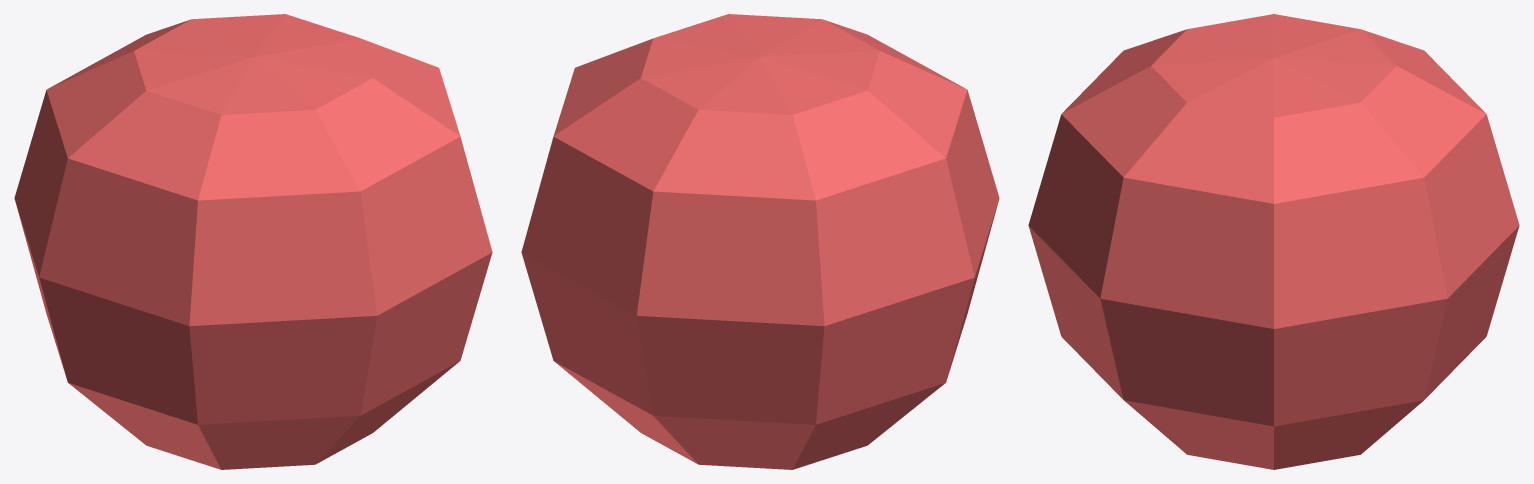
The model's file is Apple.fbx.
3 renders of one model, left to right at view 1: azimuth 30°, elevation 25°; view 2: azimuth 150°, elevation 25°; view 3: azimuth 270°, elevation 25°, orthographic.
Parts seen in each view (by area): view 1: Apple; view 2: Apple; view 3: Apple.
Boxes of the visible parts, bbox=[...] form: Apple: bbox=[14, 14, 492, 469]; Apple: bbox=[521, 14, 999, 469]; Apple: bbox=[1028, 14, 1519, 469].
Size of the model in its own units: 0.24 by 0.21 by 0.24.
